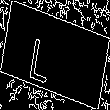L_N: (41, 26, 69, 84)
